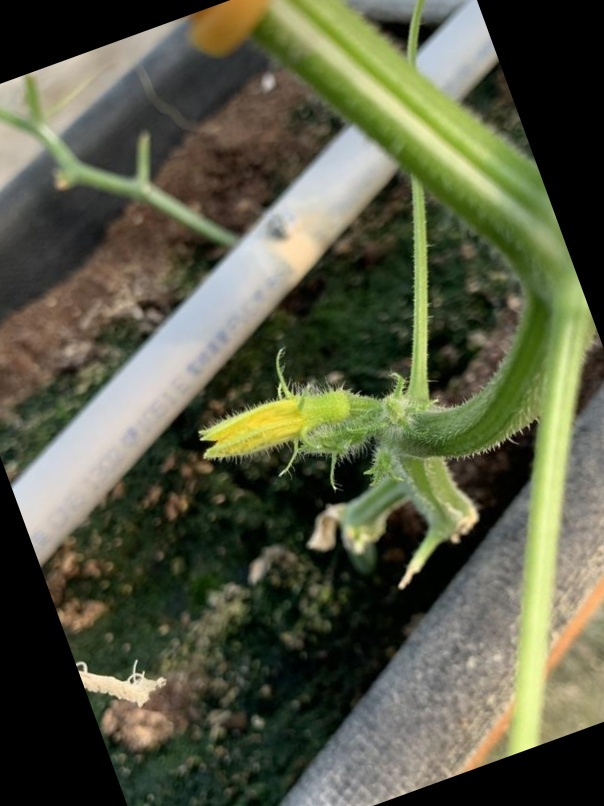bud: (198, 387, 379, 476)
